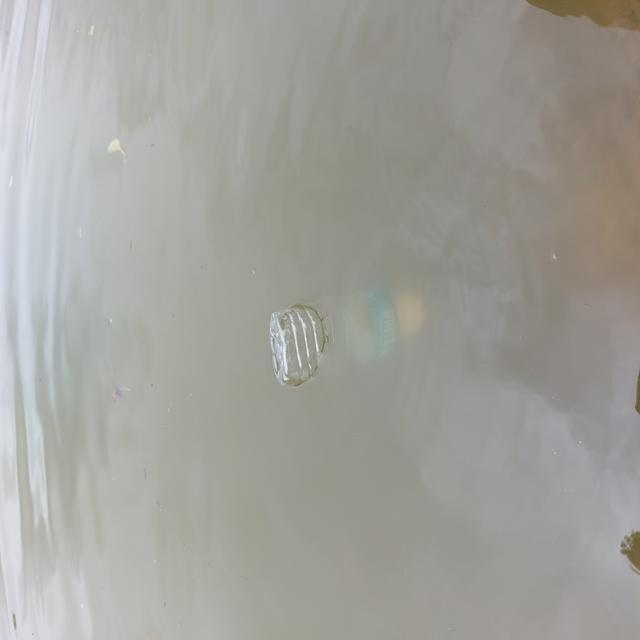waterbottle: (258, 288, 440, 402)
